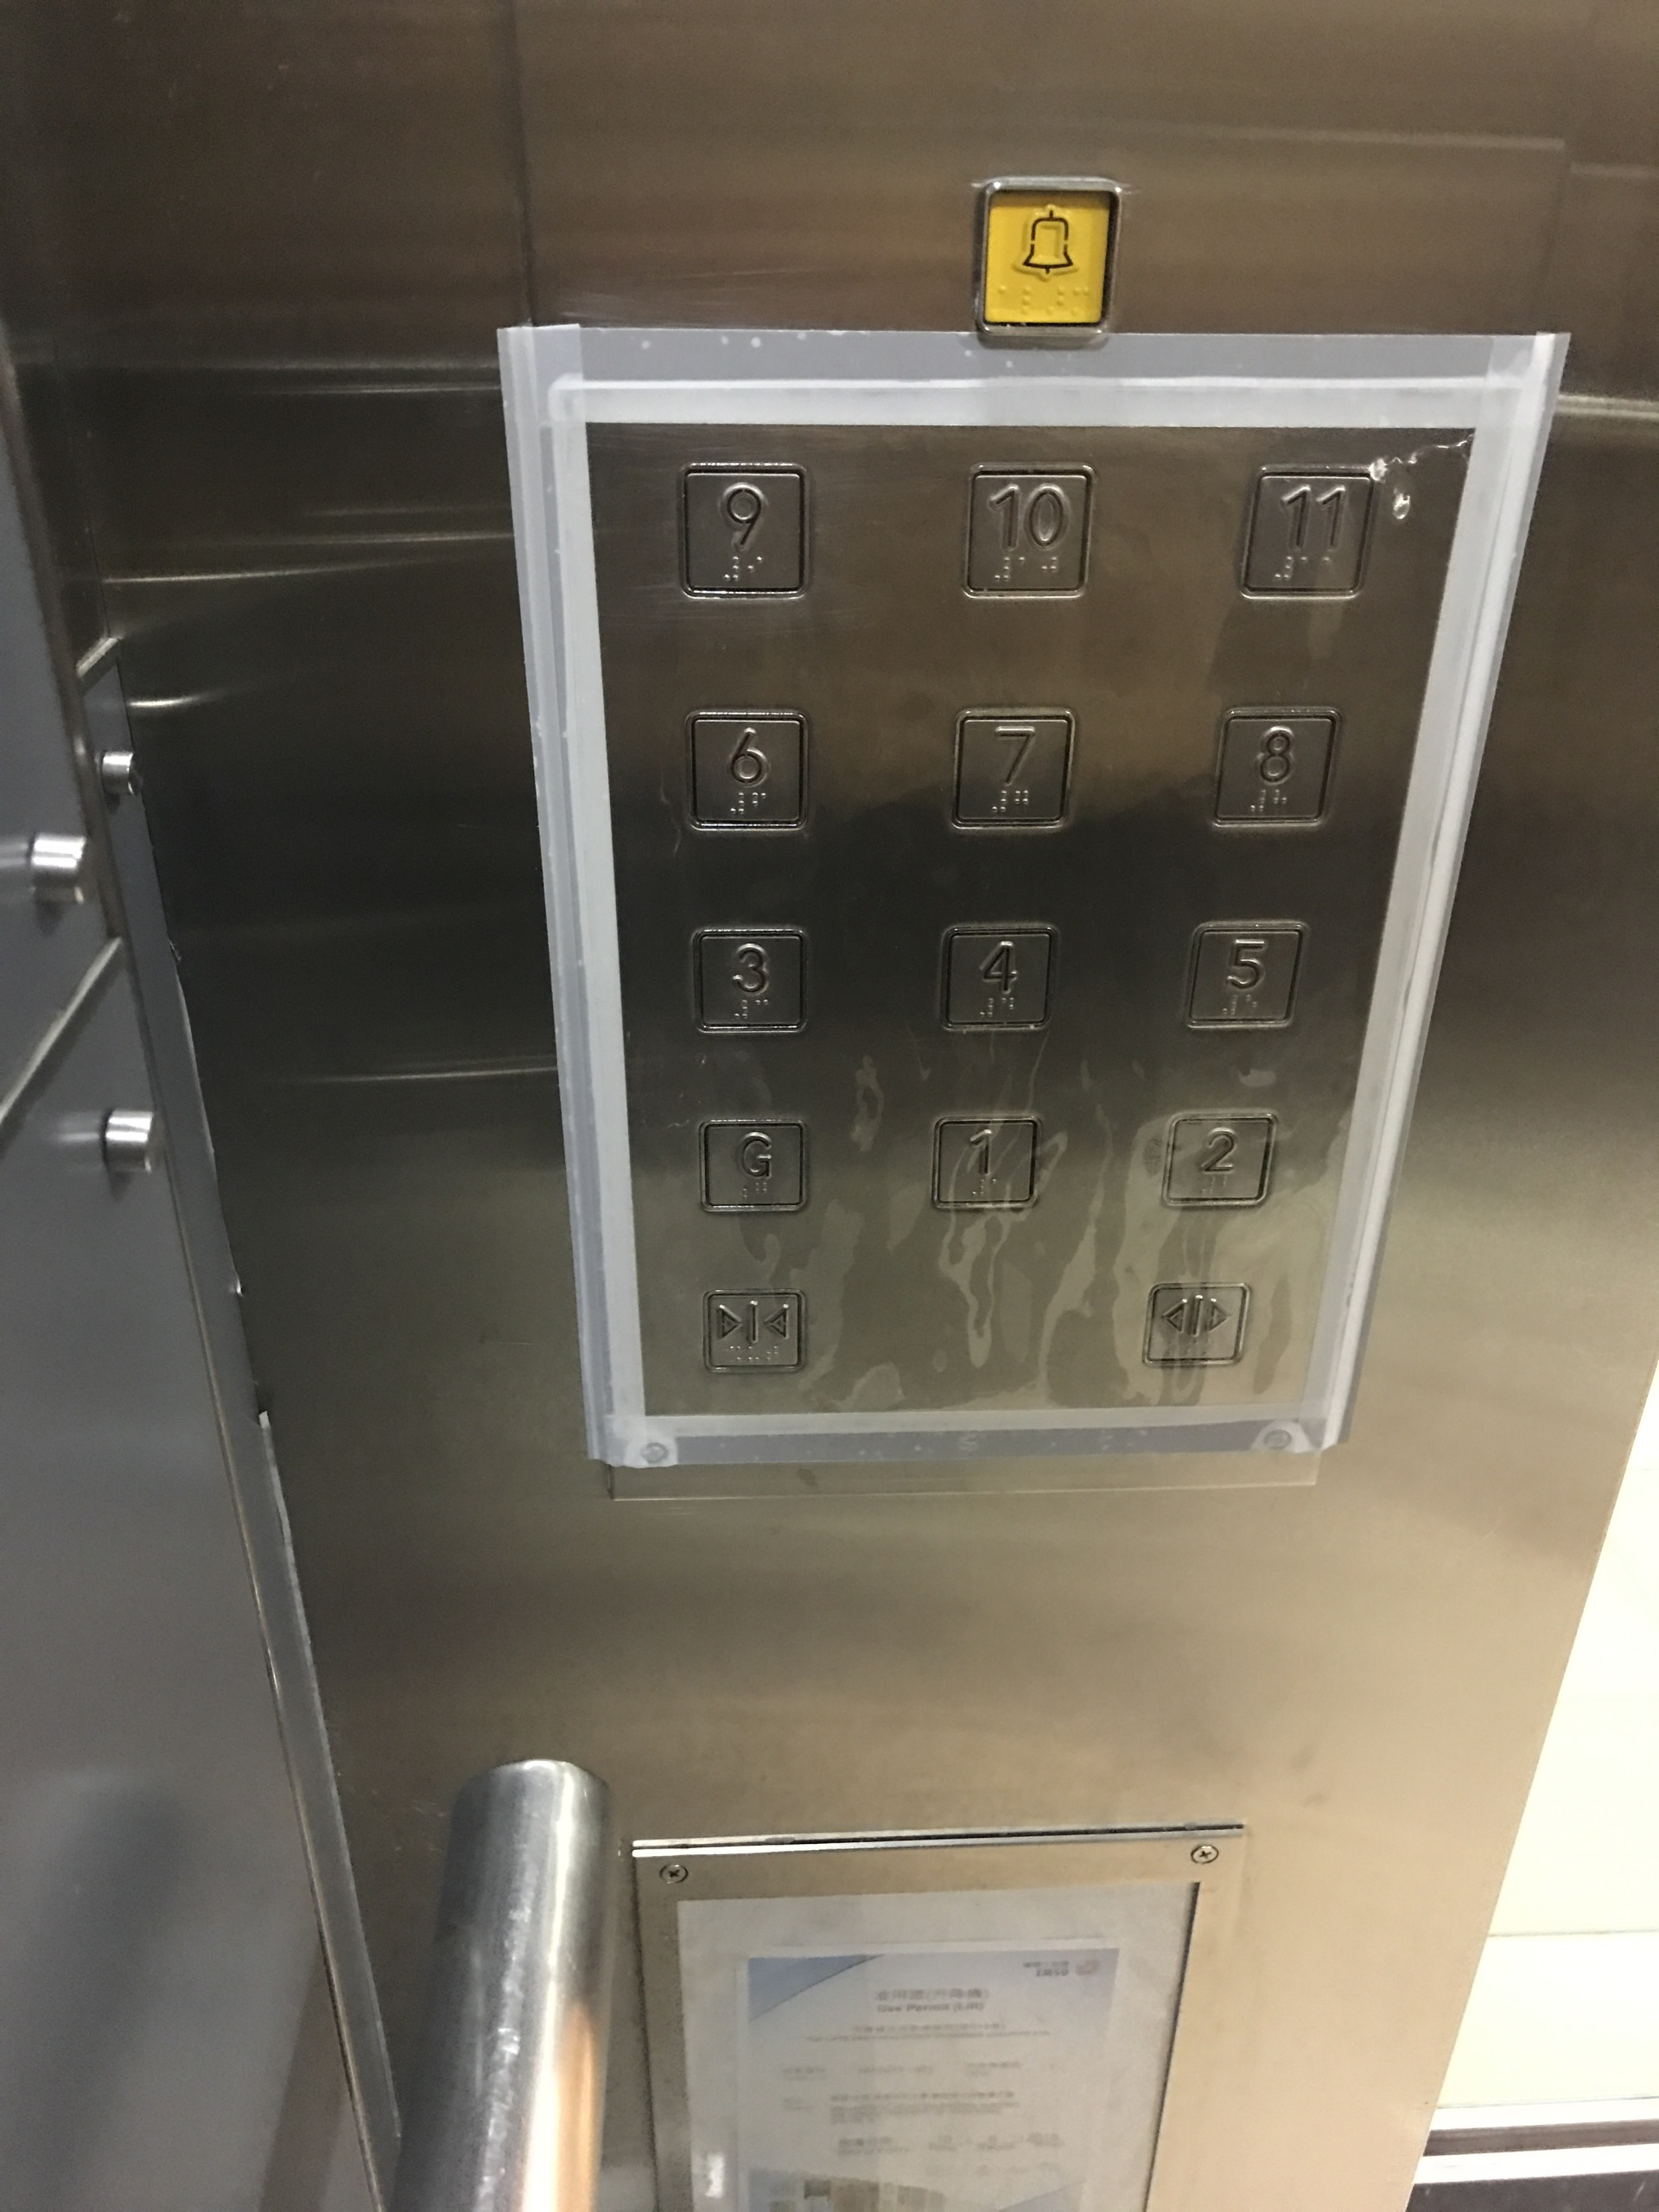1: (925, 1109, 1042, 1216)
10: (955, 460, 1098, 606)
11: (1230, 462, 1385, 606)
2: (1157, 1104, 1284, 1214)
3: (688, 921, 812, 1040)
4: (932, 920, 1061, 1038)
5: (1175, 916, 1310, 1033)
6: (683, 704, 812, 836)
7: (946, 705, 1075, 833)
8: (1204, 702, 1344, 829)
9: (676, 458, 812, 606)
G: (694, 1111, 810, 1217)
alarm: (974, 169, 1127, 348)
close: (701, 1284, 809, 1376)
open: (1140, 1277, 1251, 1367)
